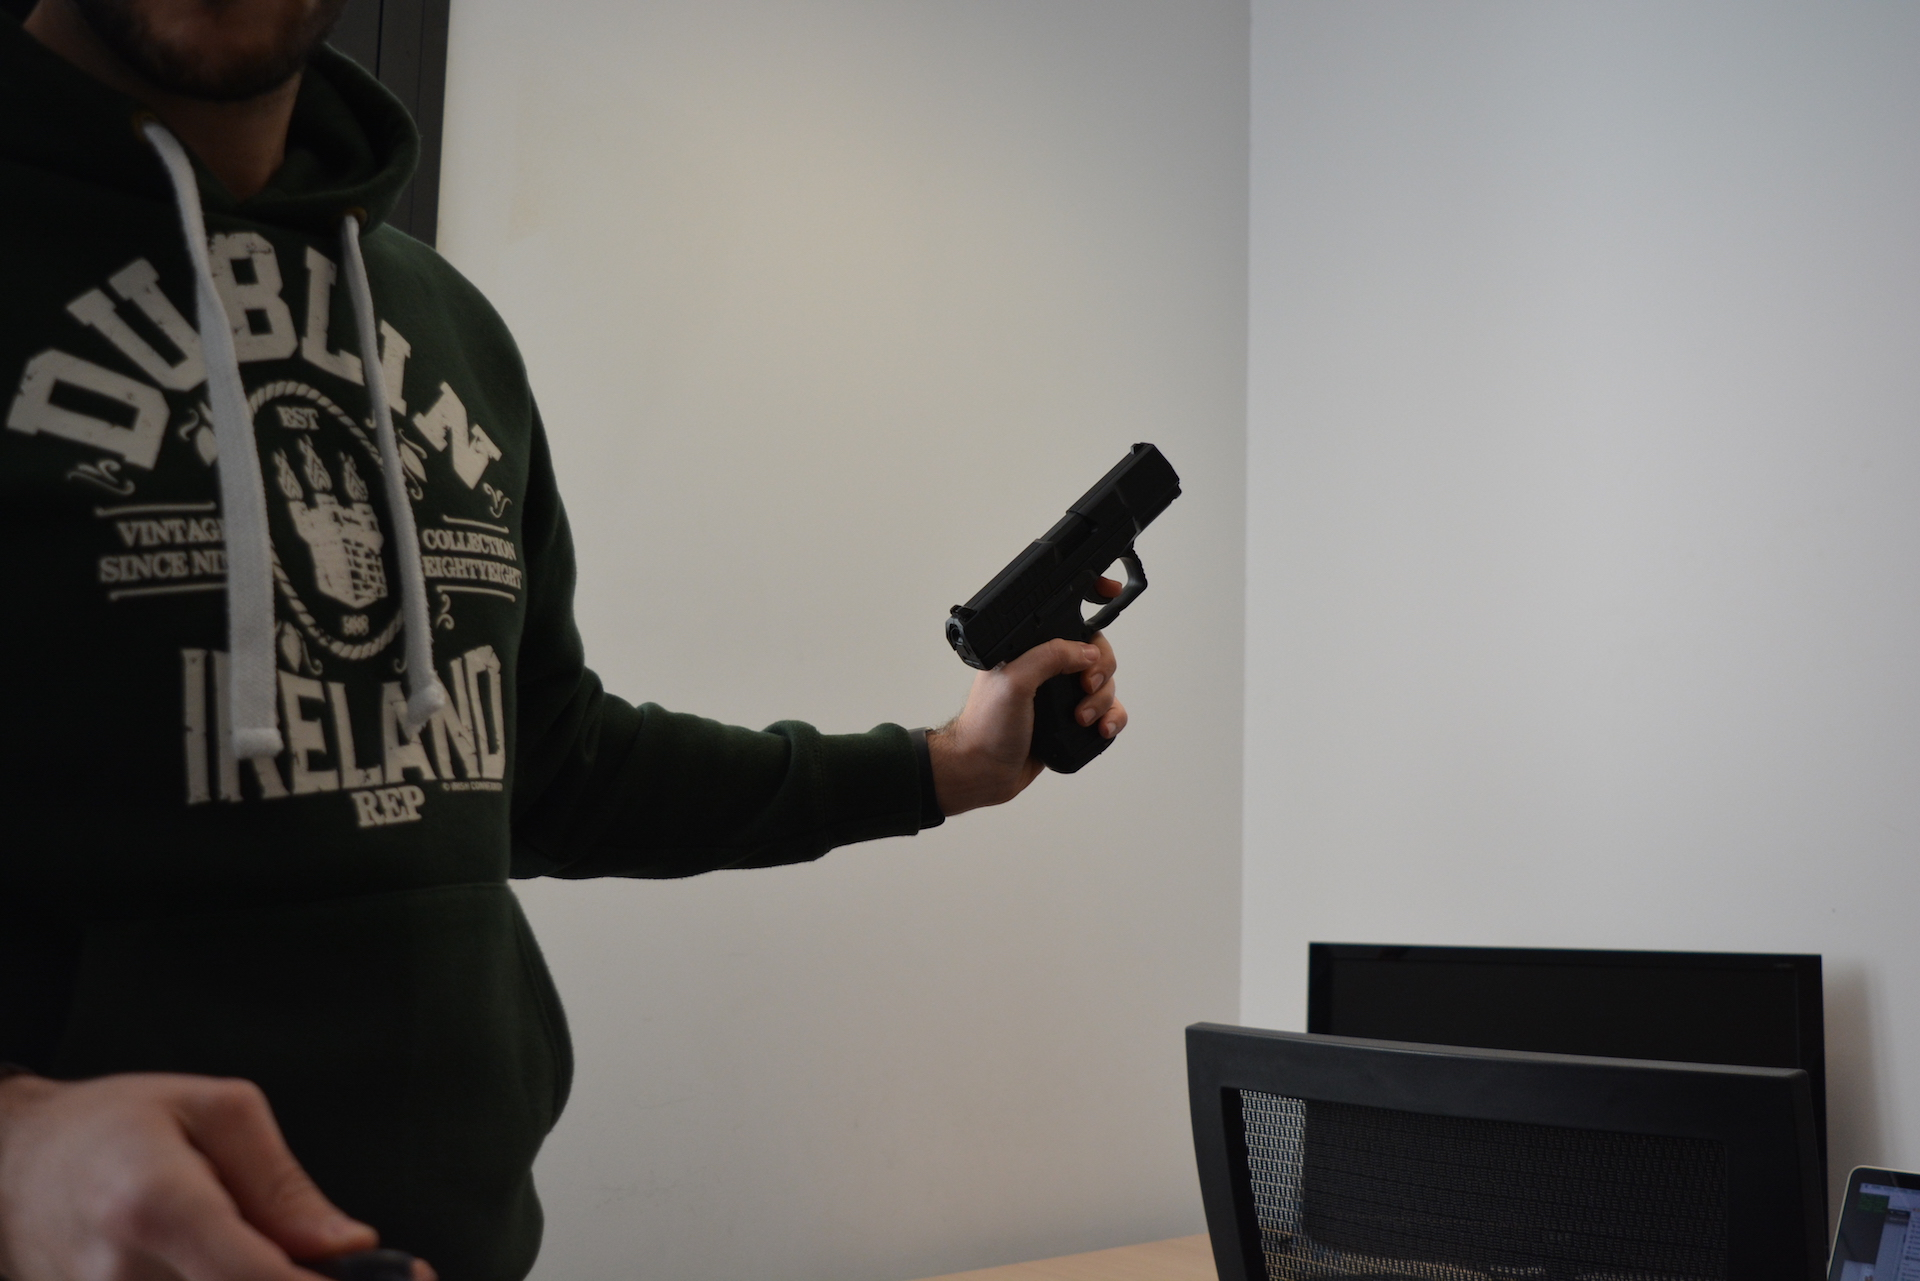pistol: (941, 439, 1184, 776)
